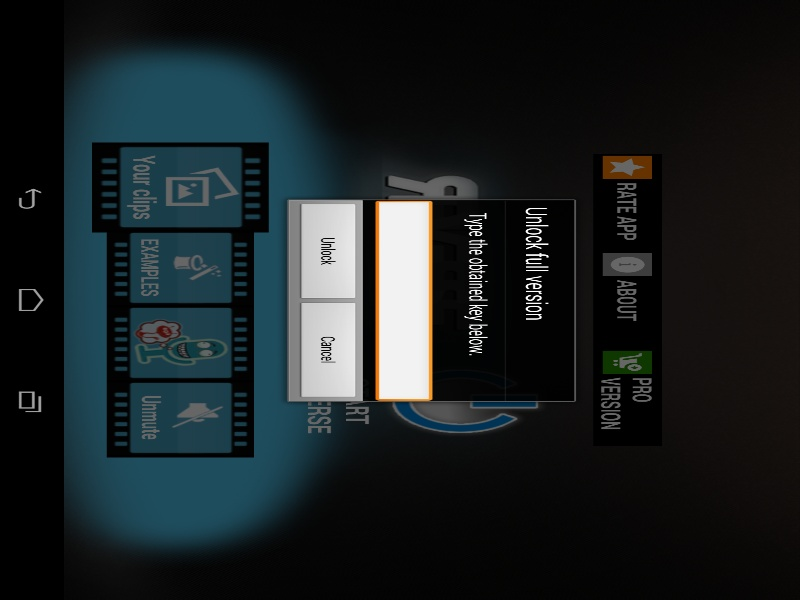Button: (430, 207, 641, 237)
